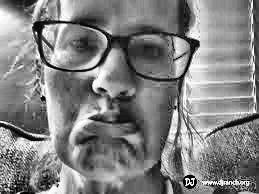sad: (14, 5, 186, 180)
